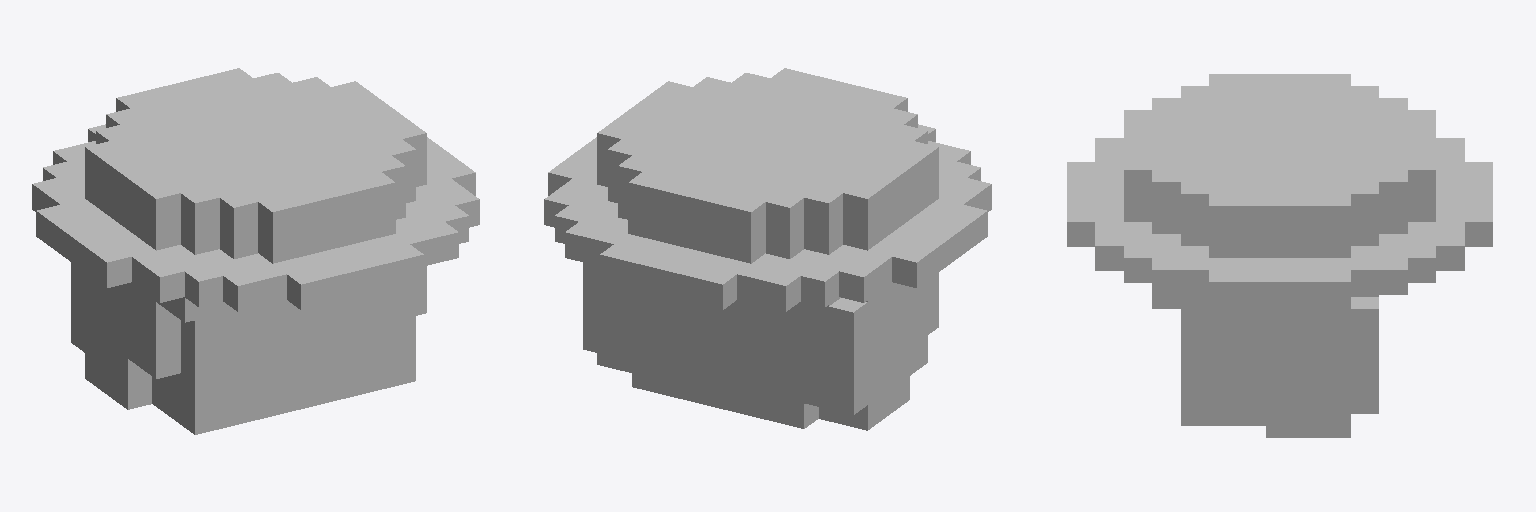
Rendered from farmerhead.obj.
3 views of the same model, side by side, from view 1: azimuth 30°, elevation 25°; view 2: azimuth 150°, elevation 25°; view 3: azimuth 270°, elevation 25° (orthographic).
Parts seen in each view (by area): view 1: SamAsFarmer; view 2: SamAsFarmer; view 3: SamAsFarmer.
Part boxes in pixels (bbox=[...]): SamAsFarmer: bbox=[32, 68, 479, 434]; SamAsFarmer: bbox=[544, 68, 991, 430]; SamAsFarmer: bbox=[1067, 74, 1492, 437].
Size of the model in its own units: 15 by 9 by 15.